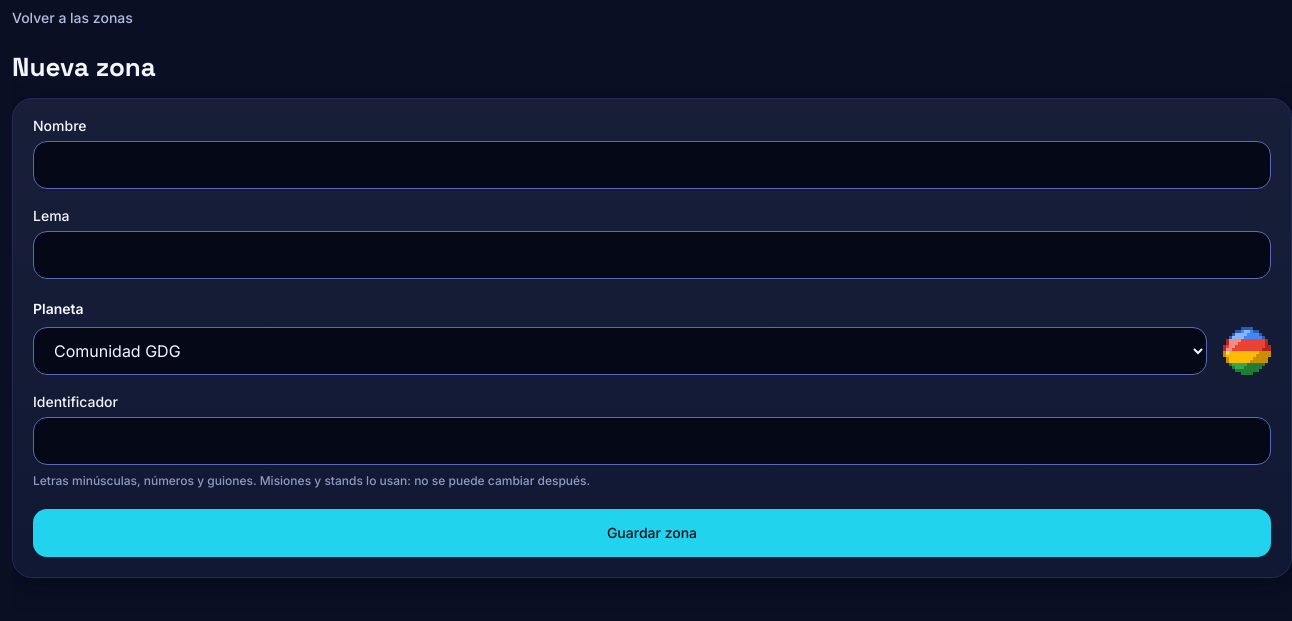
Test: QuadrantForm › shows a taken id on the id field
Type "AI" into the field labelled "Nombre" at point(652, 165), box [33,141,1271,189]
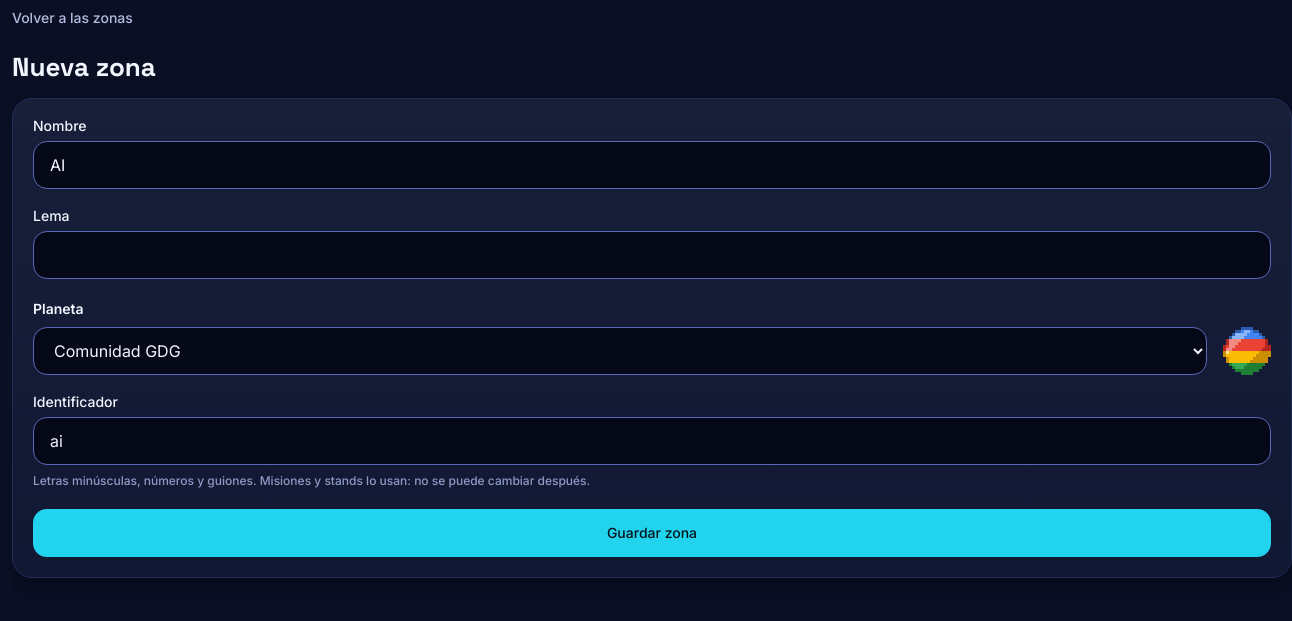
Type "Lema" into the field labelled "Lema" at point(652, 255), box [33,231,1271,279]
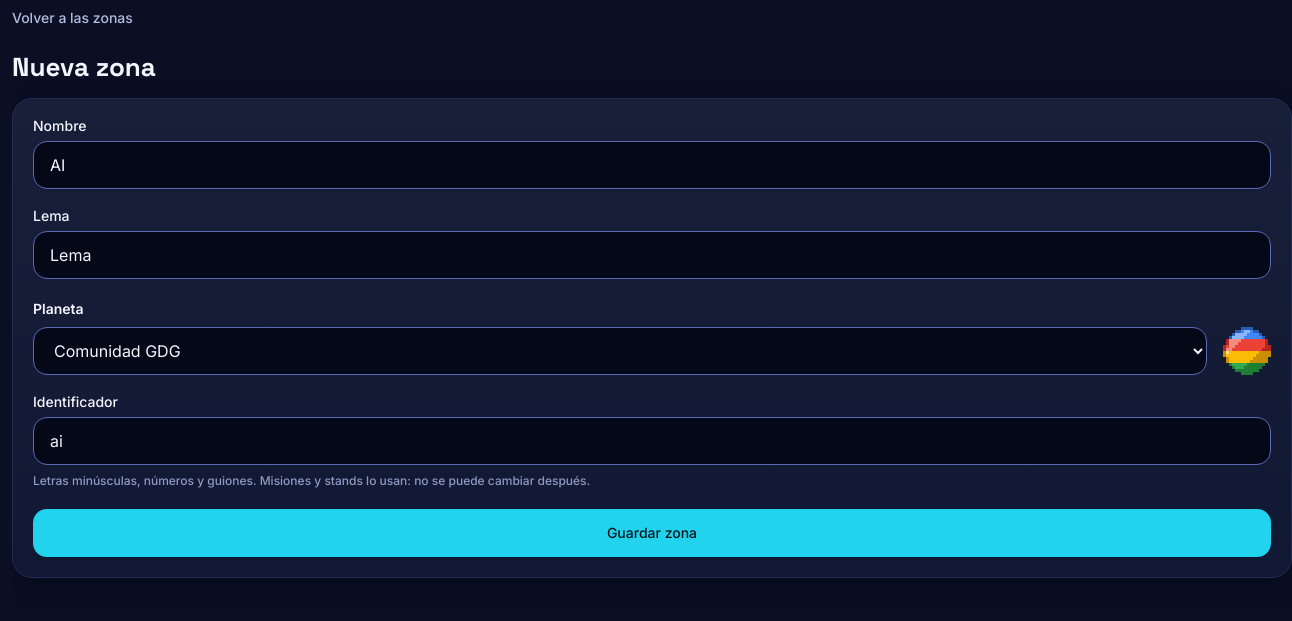
Click the button "Guardar zona" at point(652, 533), box [33,509,1271,557]
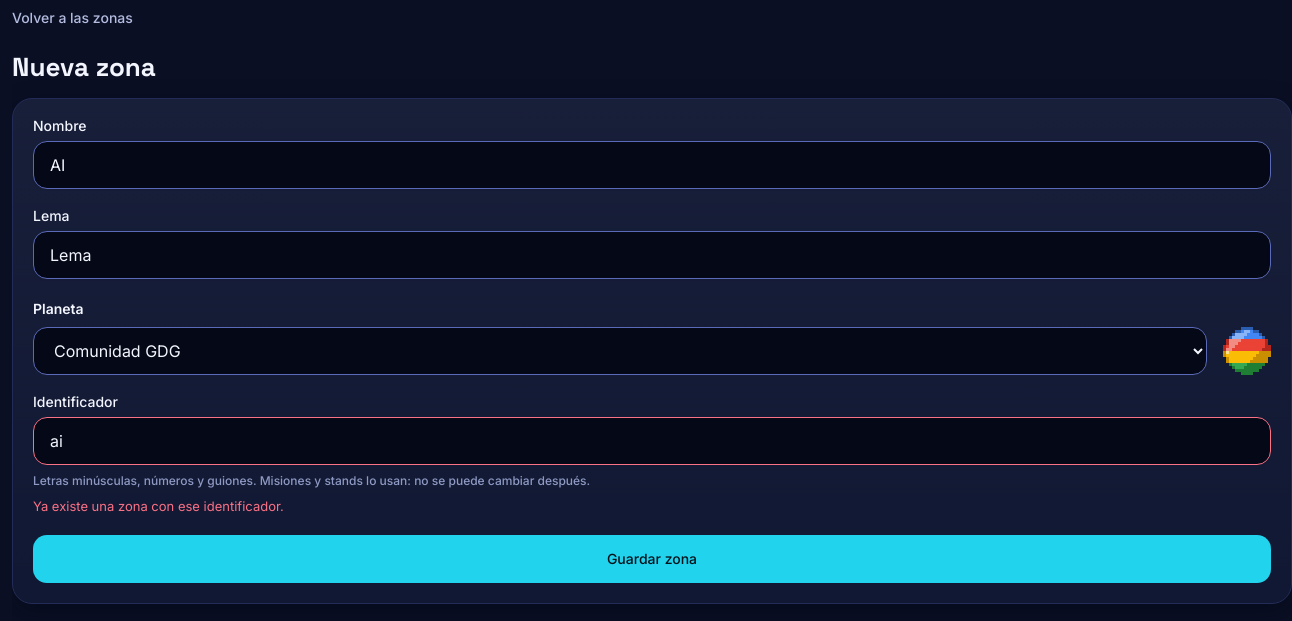
Check: the text "Ya existe una zona con ese identificador." is shown, box [33,498,284,514]
